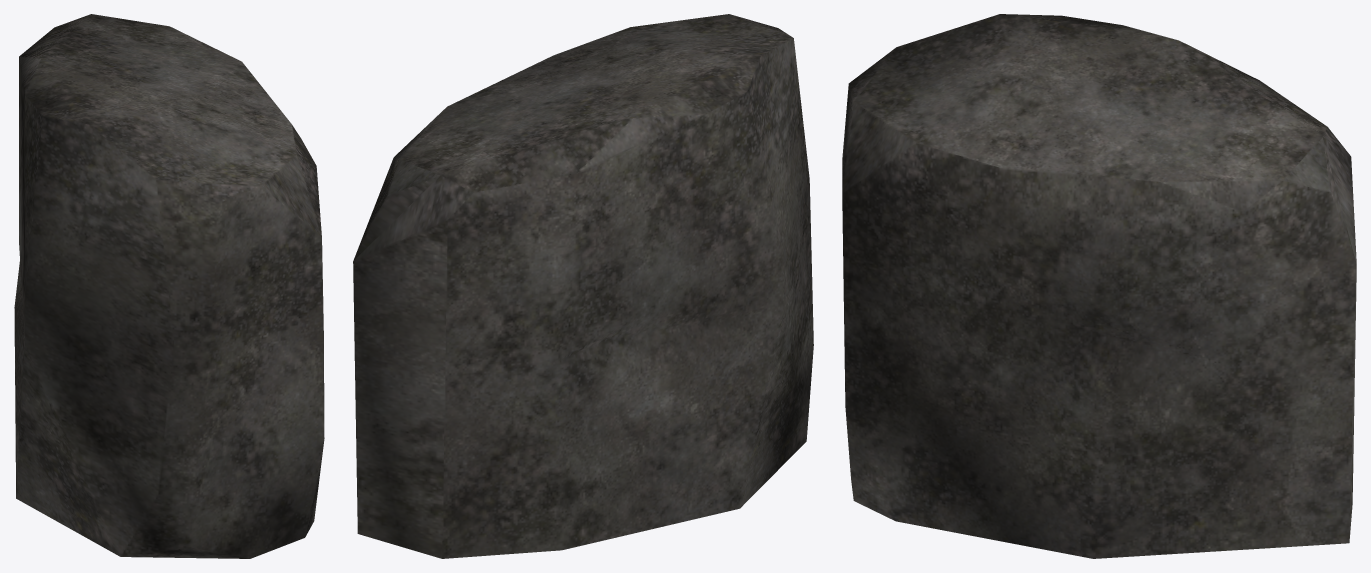
Rendered from Rock1v2.glb.
3 renders of one model, left to right at view 1: azimuth 30°, elevation 25°; view 2: azimuth 150°, elevation 25°; view 3: azimuth 270°, elevation 25°, orthographic. The views are drawn at different scales.
Visible parts, largest first — view 1: rocks1_1; view 2: rocks1_1; view 3: rocks1_1.
Boxes of the visible parts, box(x1,y1,x2,y2) form: rocks1_1: box(14, 14, 324, 558); rocks1_1: box(353, 14, 813, 558); rocks1_1: box(842, 14, 1356, 558).
Size of the model in its own units: 2.91 by 3.74 by 4.15.
1 material, 1 textured.
